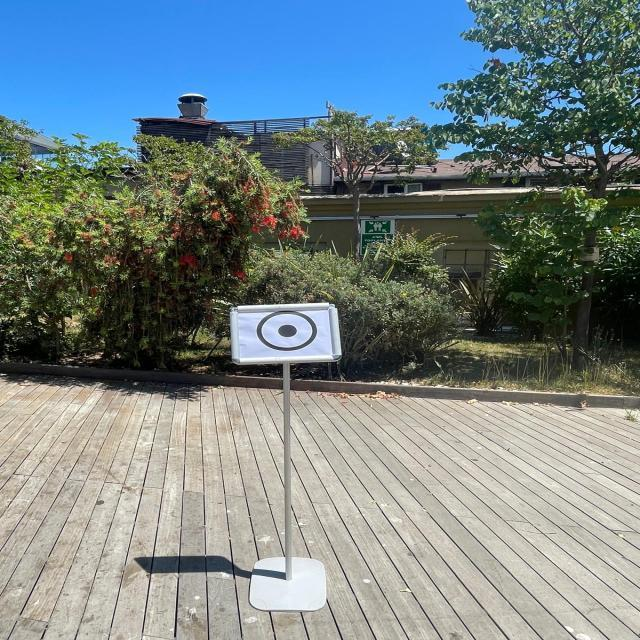Target: (216, 296, 358, 372)
inner: (274, 323, 302, 341)
